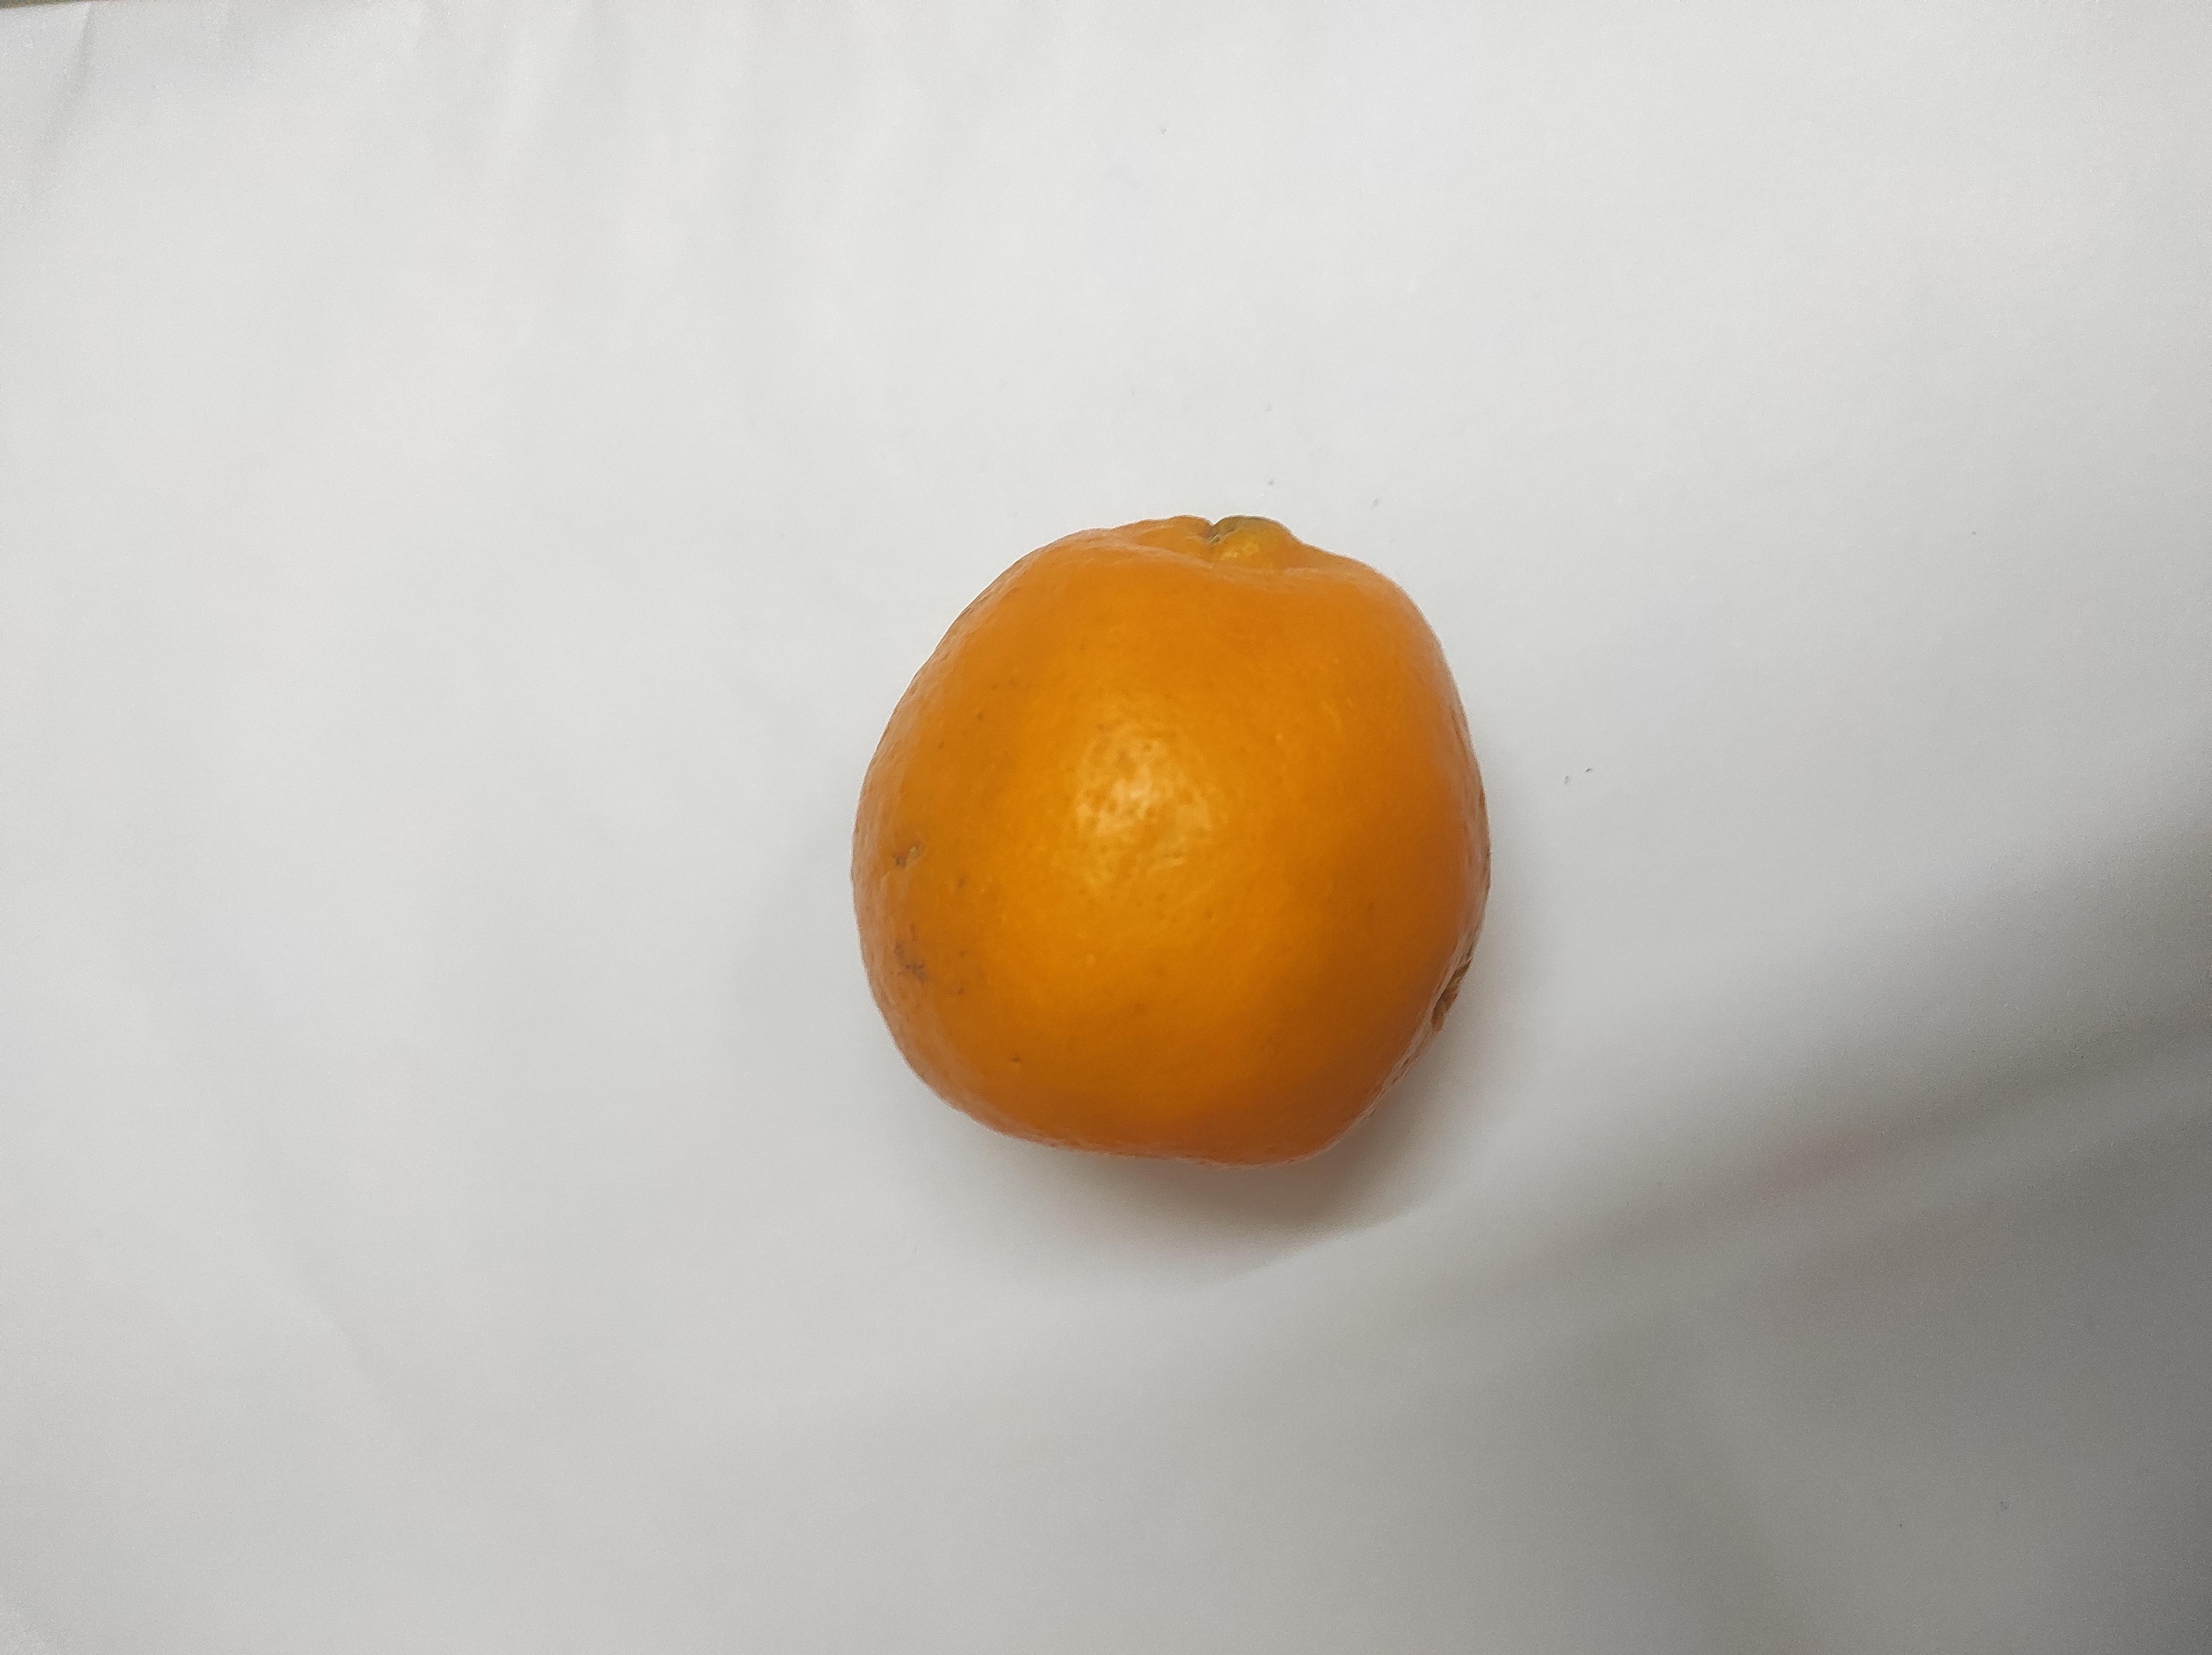Ripe: (849, 520, 1497, 1158)
